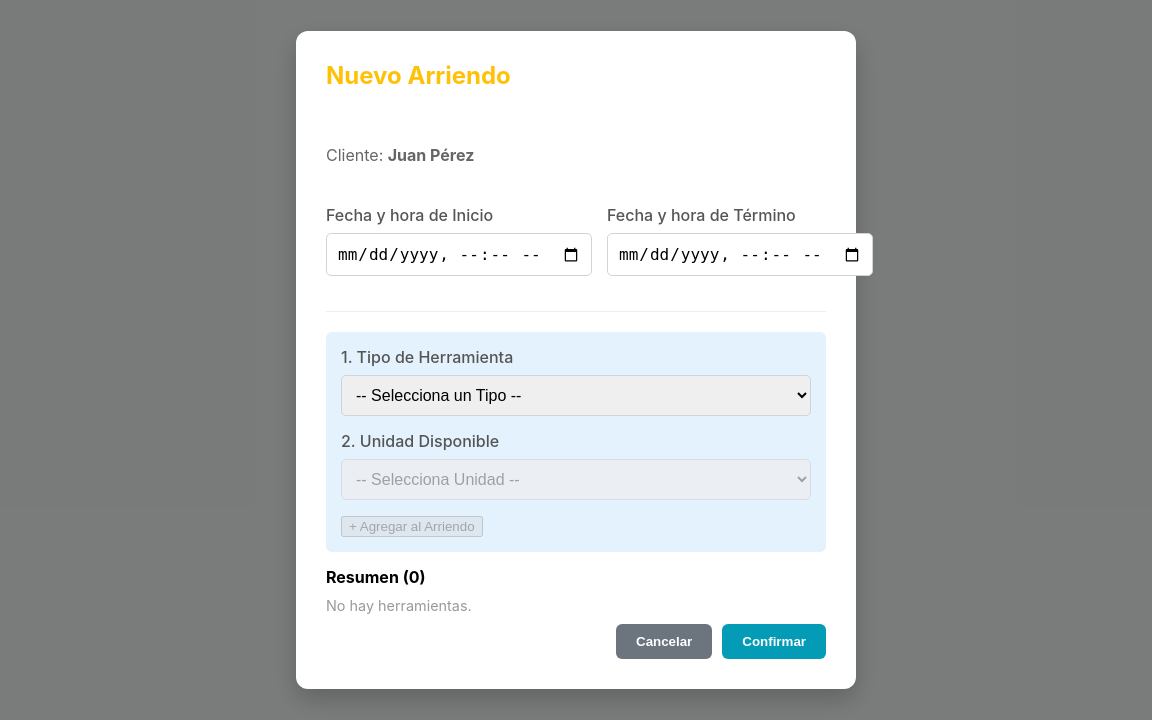
Test case: NewRentalModal › should remove tool from cart
The image size is (1152, 720).
Select "Taladro (Eléctrica)" in the dropdown below "1. Tipo de Herramienta" at (576, 396), box [341,376,811,416]
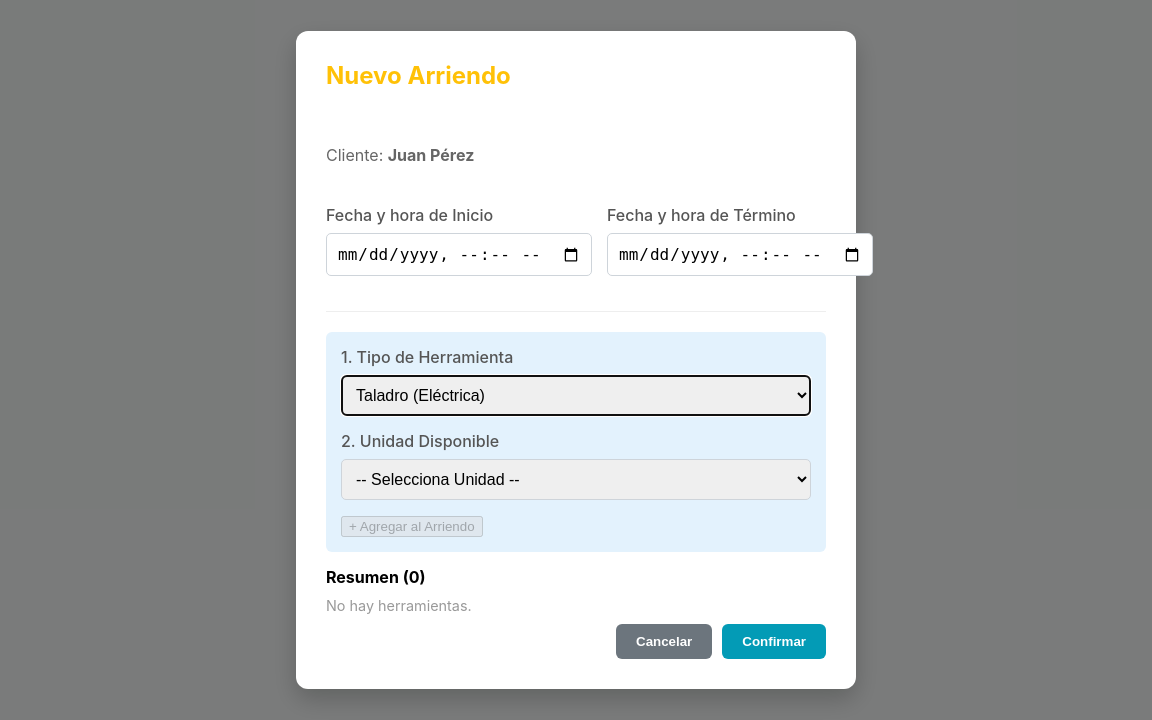
Select "TAL-001 - Disponible" in the dropdown below "2. Unidad Disponible" at (576, 480), box [341,460,811,500]
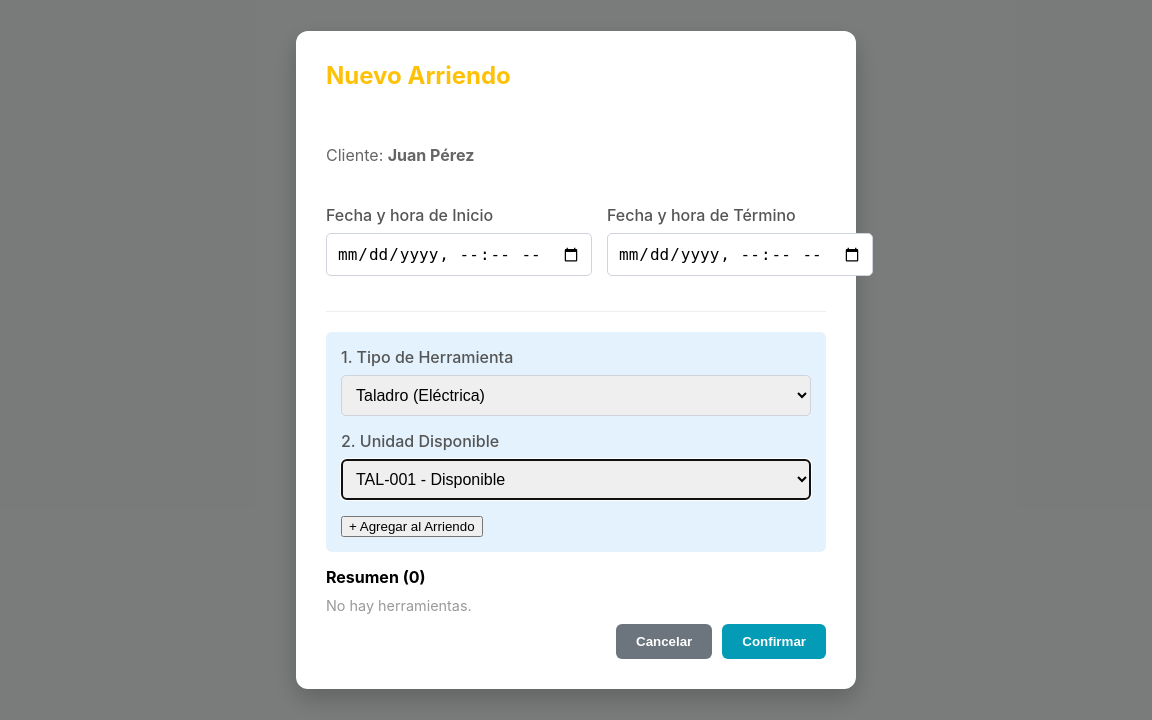
Click the button "+ Agregar al Arriendo" at (412, 527), box [341,516,483,538]
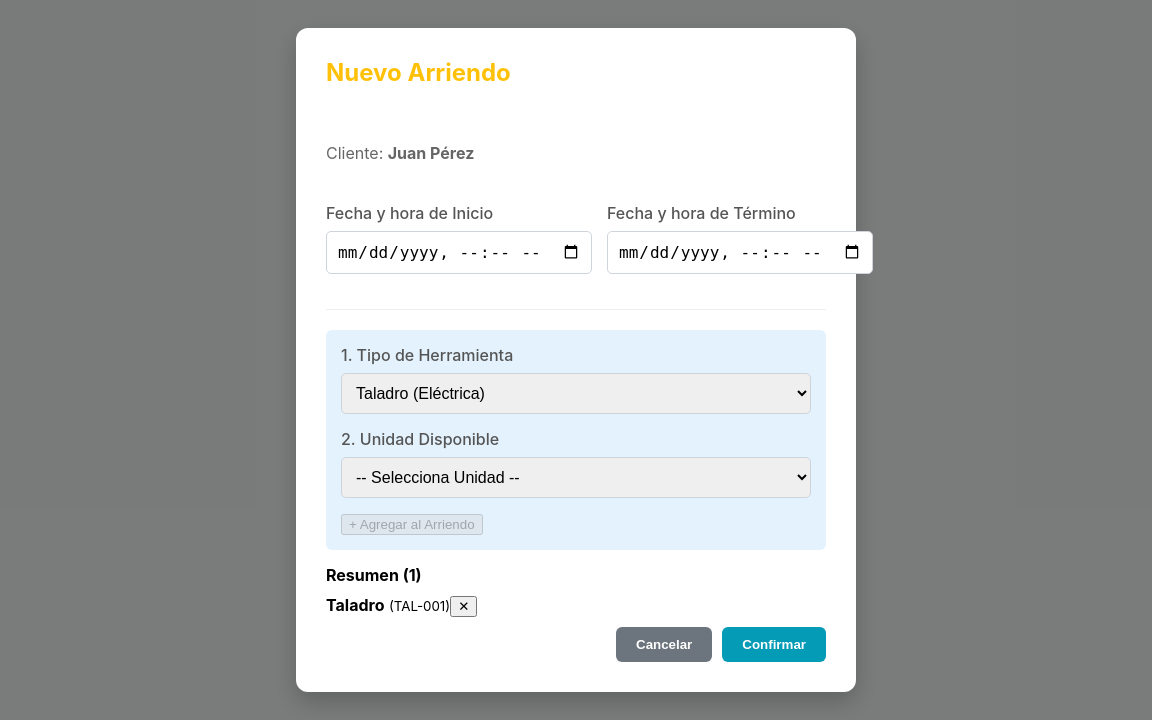
Result: the button "✕" is shown
Eliminar del carrito
Click the button "✕" at (464, 606), box [450,596,477,617]
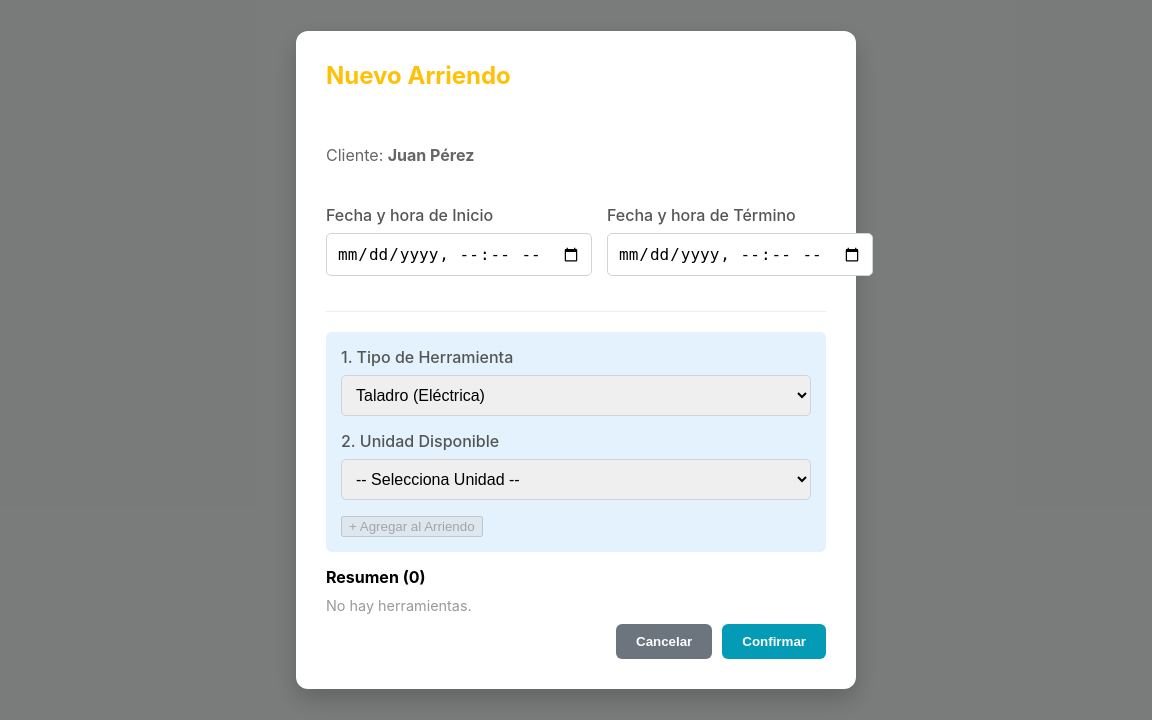
Result: the text "No hay herramientas." is shown at [326,598,472,614]
